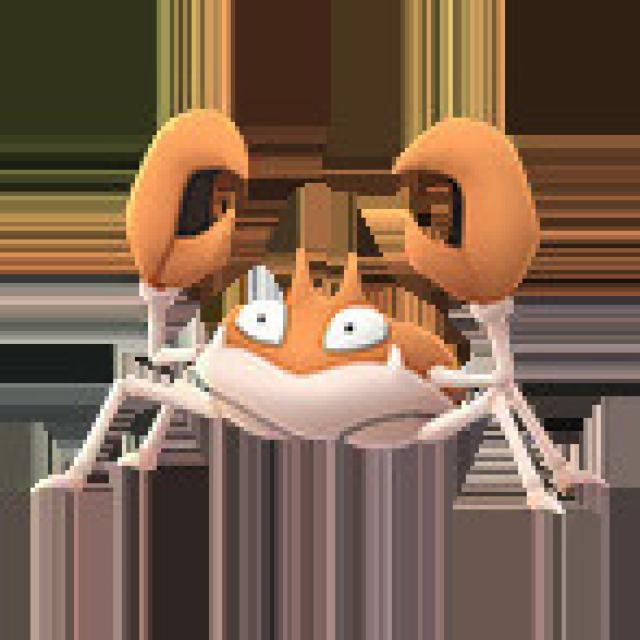Krabby: (19, 102, 622, 530)
